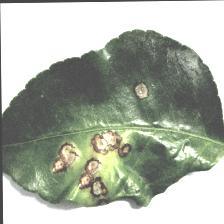canker: (38, 74, 151, 213)
